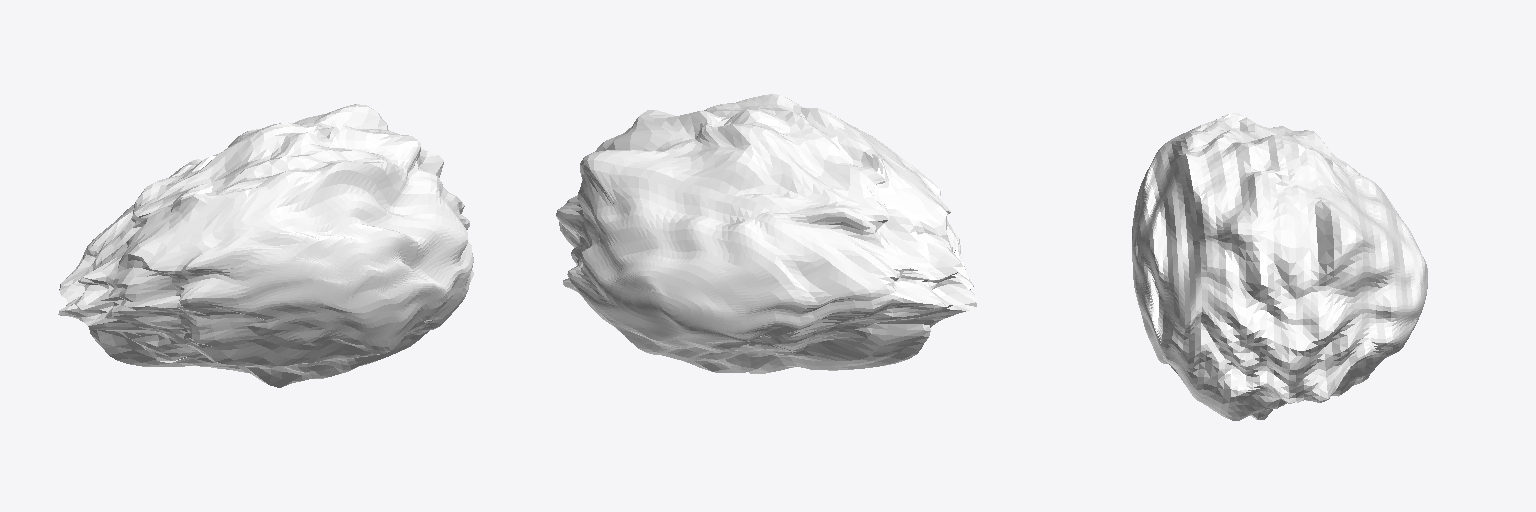
Rendered from asteroid_OBJ.obj.
3 renders of one model, left to right at view 1: azimuth 30°, elevation 25°; view 2: azimuth 150°, elevation 25°; view 3: azimuth 270°, elevation 25°, orthographic.
Visible parts, largest first — view 1: Sphere01_asteroid; view 2: Sphere01_asteroid; view 3: Sphere01_asteroid.
Part boxes in pixels (x1,y1,x2,y2): Sphere01_asteroid: (58,104,473,387); Sphere01_asteroid: (556,94,976,373); Sphere01_asteroid: (1132,113,1427,420).
Bounding box in the file's own units: 39.05 × 23.17 × 24.69.